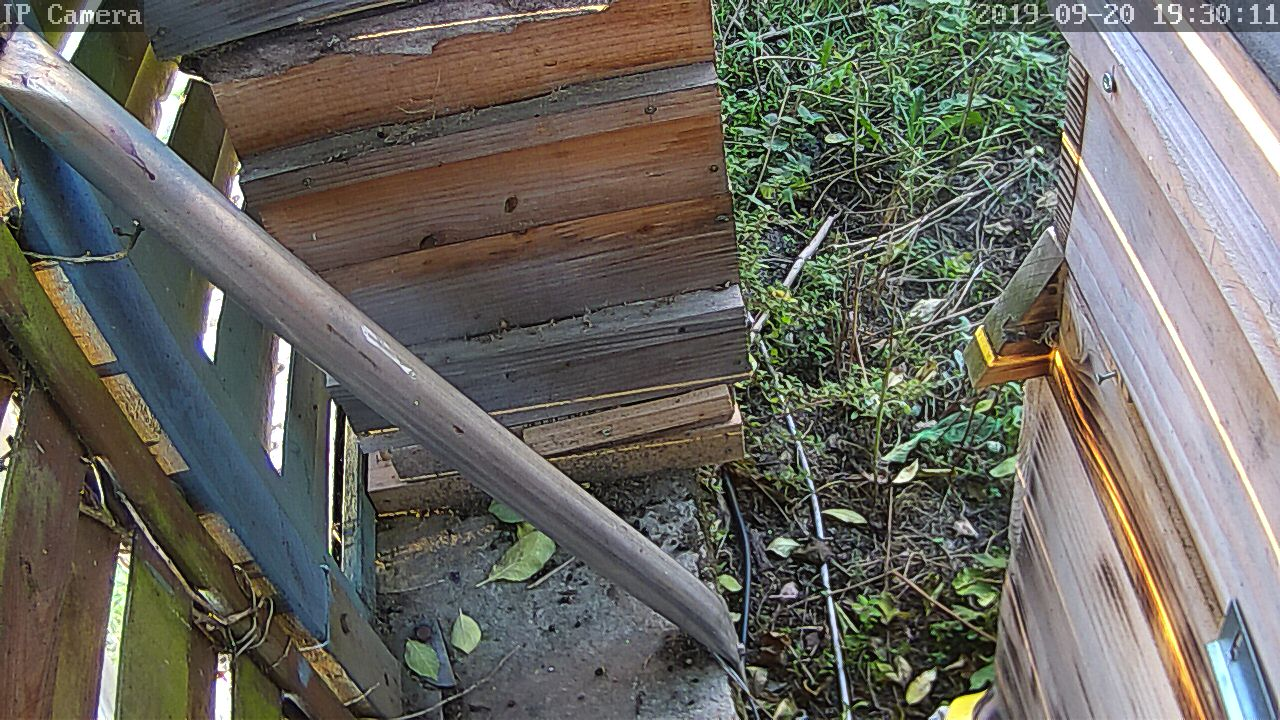hornet: (37, 0, 1173, 720)
